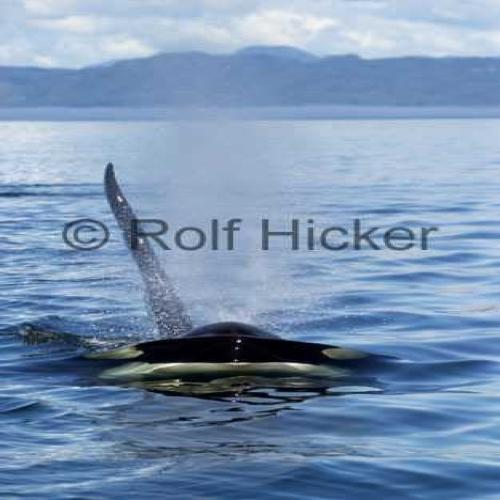killer_whale-endangered: (89, 163, 306, 365), (54, 306, 430, 386)
